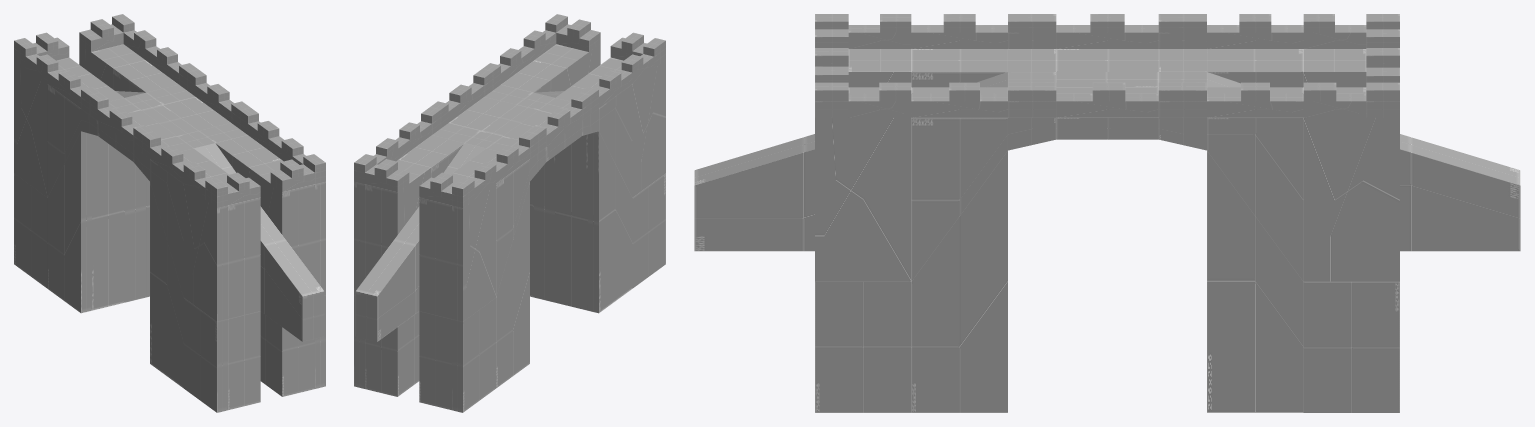
File: wall_gate.glb
3 views of the same model, side by side, from view 1: azimuth 30°, elevation 25°; view 2: azimuth 150°, elevation 25°; view 3: azimuth 270°, elevation 25° (orthographic). The views are drawn at different scales.
Visible parts, largest first — view 1: gate; view 2: gate; view 3: gate.
Part boxes in pixels (bbox=[...]): gate: bbox=[14, 14, 325, 412]; gate: bbox=[354, 14, 665, 412]; gate: bbox=[694, 14, 1520, 412].
Size of the model in its own units: 15 by 29.5 by 68.5.
Materials: 2 (2 with a texture image).
